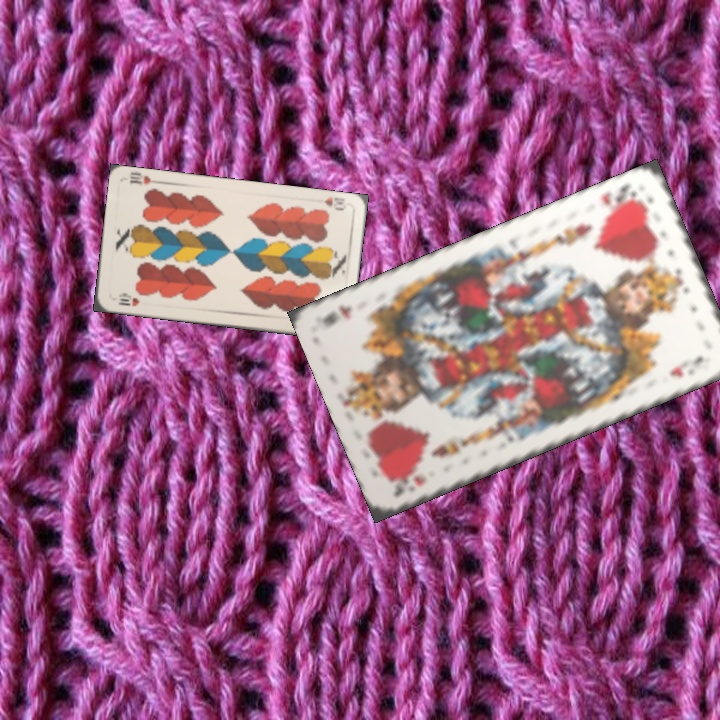H10: (320, 193, 347, 213), (114, 290, 142, 309)
HK: (597, 180, 645, 214), (385, 466, 430, 499)
